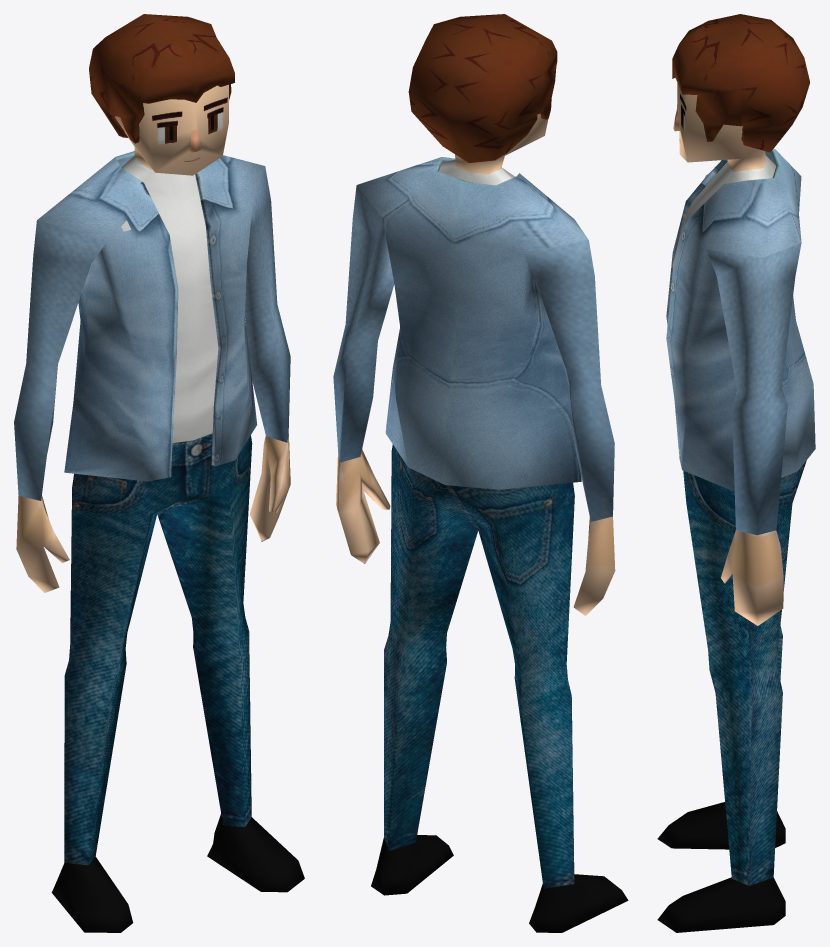
The model's file is Humanoid1.fbx.
3 renders of one model, left to right at view 1: azimuth 30°, elevation 25°; view 2: azimuth 150°, elevation 25°; view 3: azimuth 270°, elevation 25°, orthographic. The views are drawn at different scales.
Parts seen in each view (by area): view 1: HumanoidBase_NotOverlapping; view 2: HumanoidBase_NotOverlapping; view 3: HumanoidBase_NotOverlapping.
Boxes of the visible parts, <box> form: HumanoidBase_NotOverlapping: <box>14,14,304,932</box>; HumanoidBase_NotOverlapping: <box>333,14,628,932</box>; HumanoidBase_NotOverlapping: <box>657,14,815,932</box>.
Bounding box in the file's own units: 61.62 × 183 × 30.69.
Materials: 2 (2 with a texture image).
